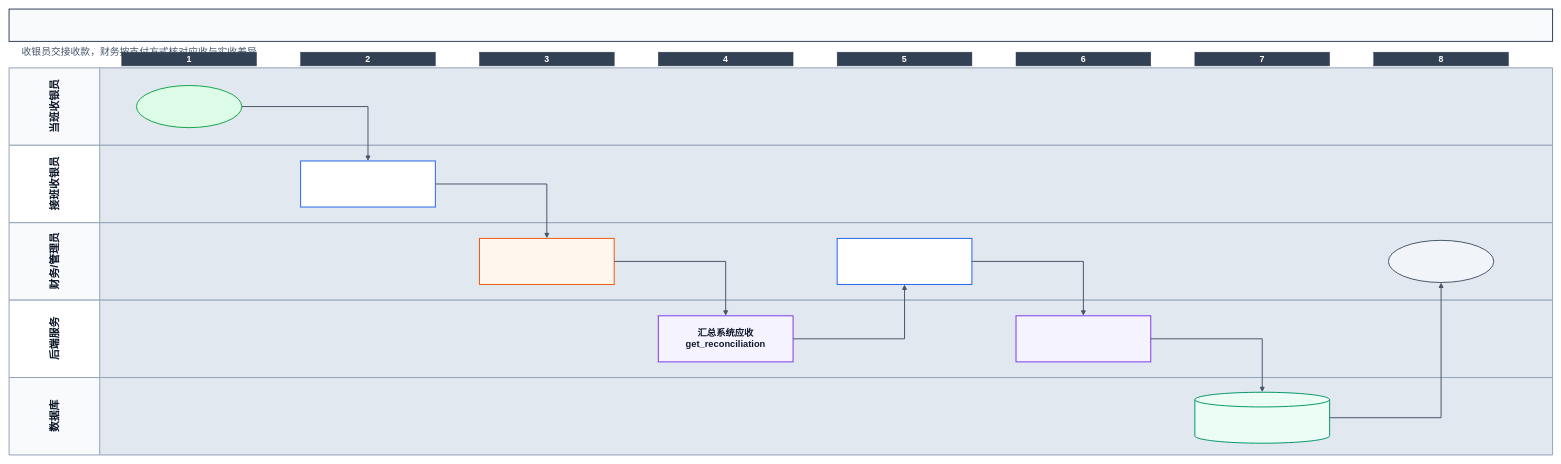
The diagram is 1561 pixels wide and 464 high, and some of its shapes have lost their labels. The shapes that lost their labels are listed below. From the top down, each one's centre as x and y in pixels, then its label:
point (780, 25): 班次交接与日结泳道图
point (189, 106): 结束班次 整理现金/票据
point (368, 183): 接收交接 核对备用金
point (546, 261): 选择日期/支付方式 /finance
point (904, 261): 录入实际金额 填写差异说明
point (1441, 261): 日结归档 异常追踪
point (1083, 338): 计算差异 actual-expected
point (1262, 417): 保存对账记录 cash_reconciliations
